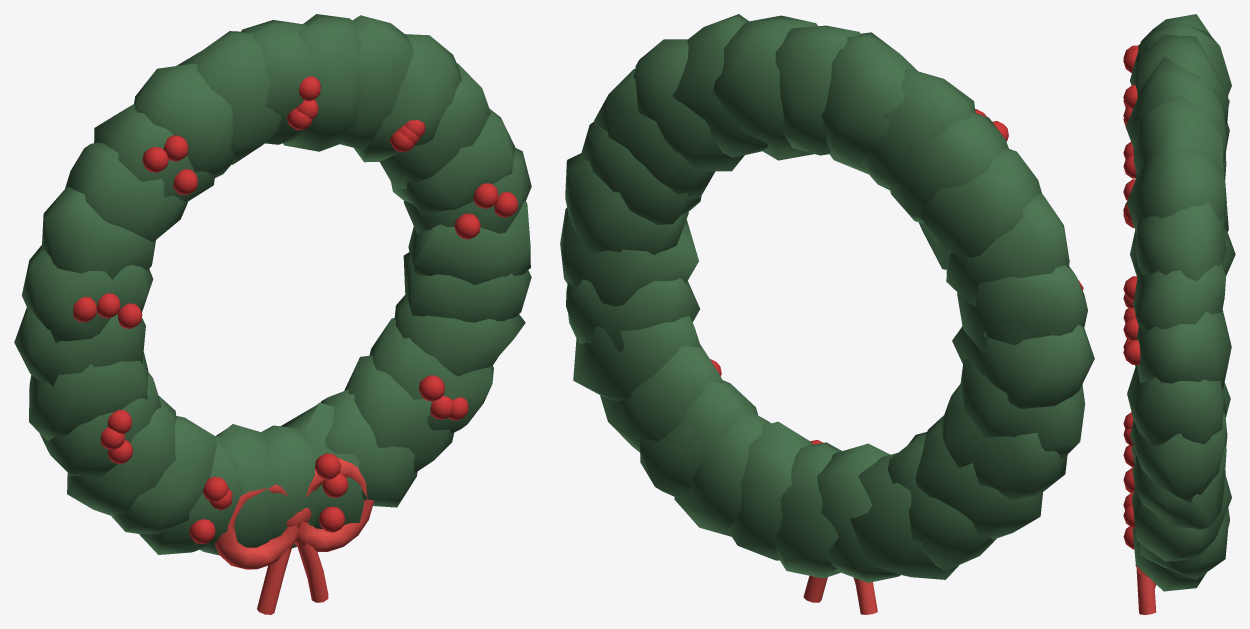
The model's file is lp_wreath_small.glb.
3 renders of one model, left to right at view 1: azimuth 30°, elevation 25°; view 2: azimuth 150°, elevation 25°; view 3: azimuth 270°, elevation 25°, orthographic. The views are drawn at different scales.
Parts seen in each view (by area): view 1: lp_wreath_small; view 2: lp_wreath_small; view 3: lp_wreath_small.
Boxes of the visible parts, <box> form: lp_wreath_small: <box>14,14,531,614</box>; lp_wreath_small: <box>560,14,1094,614</box>; lp_wreath_small: <box>1123,14,1235,614</box>.
Bounding box in the file's own units: 2.58 × 2.8 × 0.5115.
